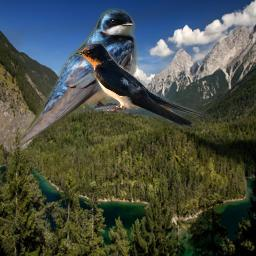Swallow: (19, 6, 139, 147), (72, 39, 211, 128)
